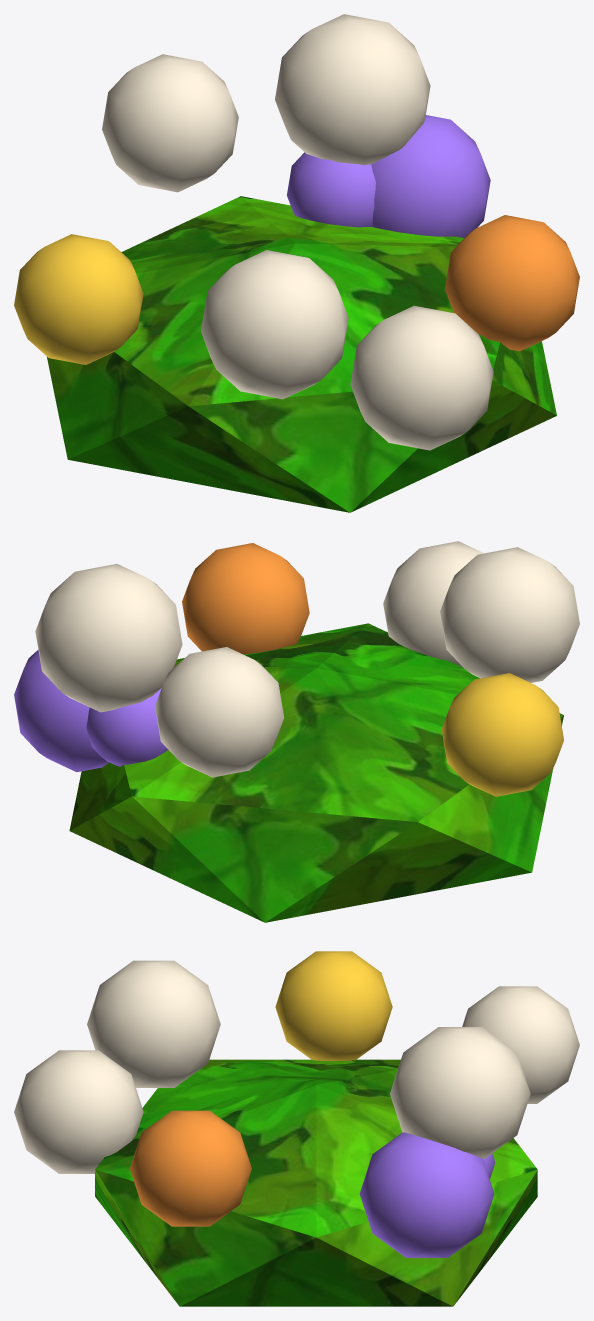
File: flower_patch.glb
The picture shows the model from 3 angles, top to bottom: view 1: azimuth 30°, elevation 25°; view 2: azimuth 150°, elevation 25°; view 3: azimuth 270°, elevation 25°; orthographic projection. The views are drawn at different scales.
Parts seen in each view (by area): view 1: flower_patch; view 2: flower_patch; view 3: flower_patch.
Part boxes in pixels (x1,y1,x2,y2): flower_patch: (14, 14, 579, 512); flower_patch: (14, 541, 579, 922); flower_patch: (14, 951, 579, 1306).
Size of the model in its own units: 0.9561 by 0.6333 by 1.04.
5 materials, 1 textured.
